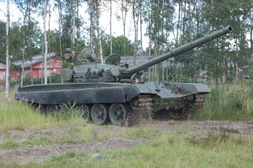t72: (16, 25, 234, 120)
